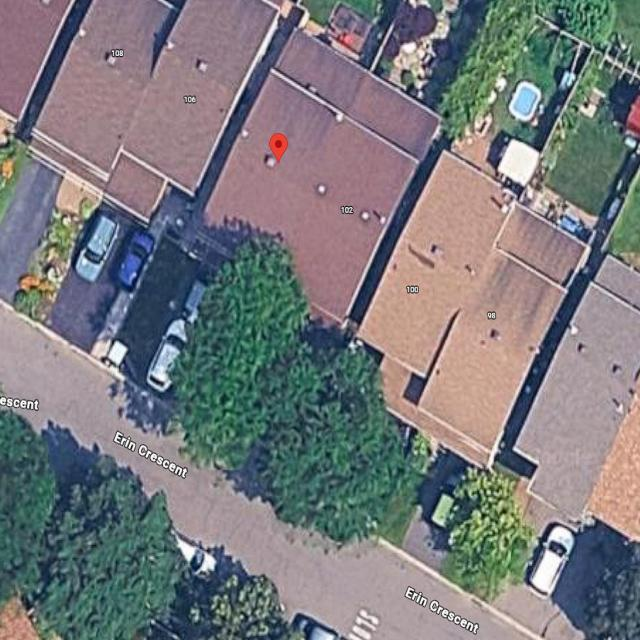Building: (196, 33, 443, 323)
boundaryof property: (105, 2, 488, 482)
obstacle: (143, 322, 199, 394)
walkways: (106, 244, 227, 400)
